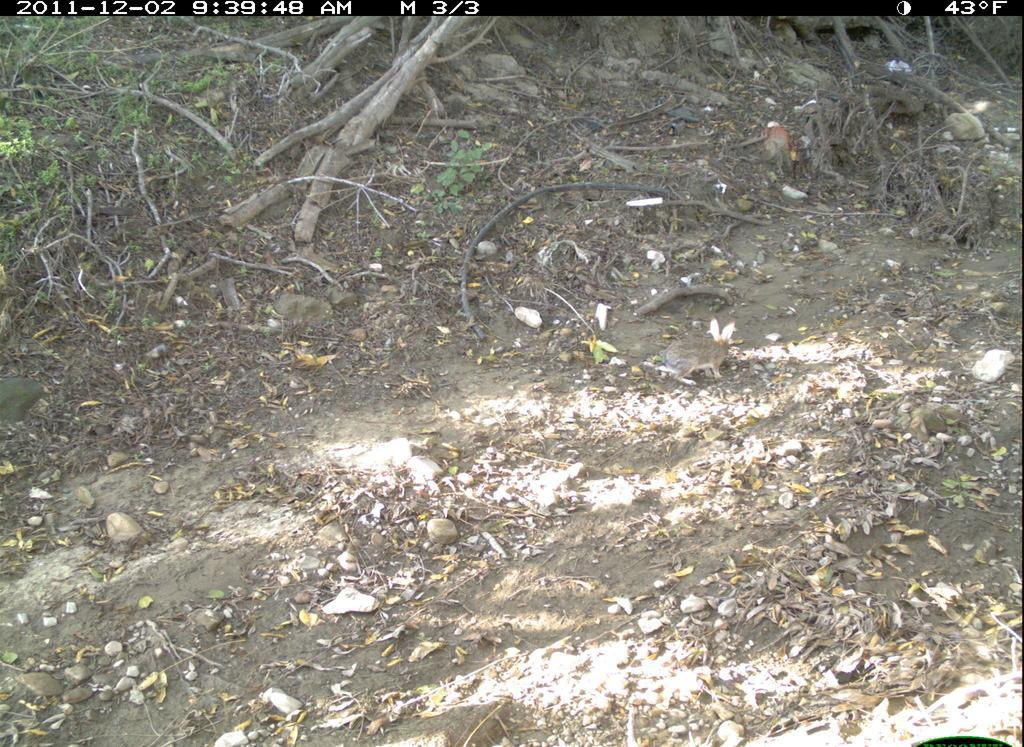rabbit: (652, 314, 748, 406)
